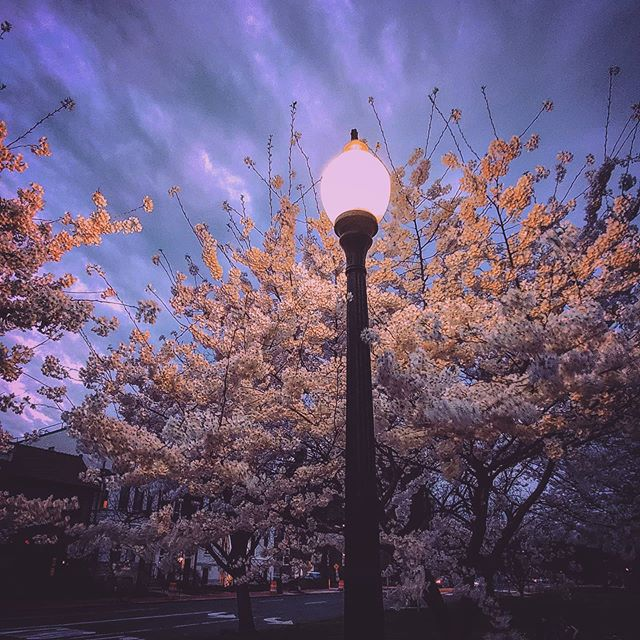building: (1, 436, 113, 566)
light pole: (313, 122, 399, 640)
sky: (55, 1, 640, 355)
street: (2, 588, 332, 640)
tree: (407, 149, 640, 611), (102, 251, 341, 640), (1, 141, 122, 561)
